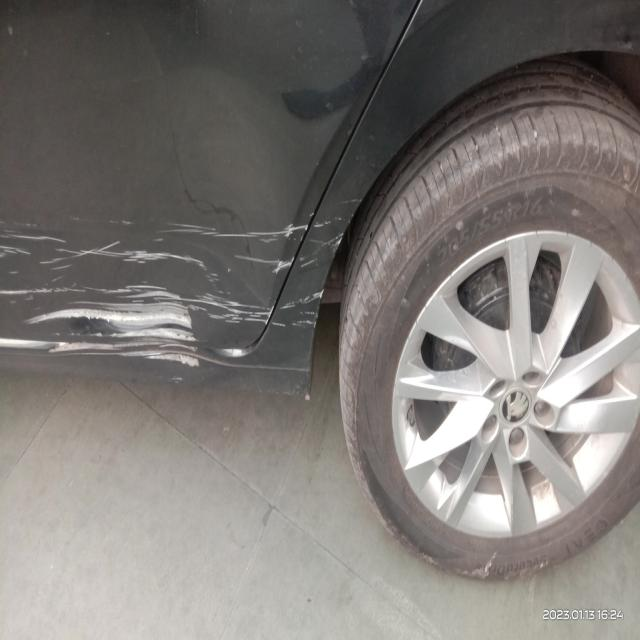damage: (0, 173, 300, 374), (272, 183, 380, 372)
